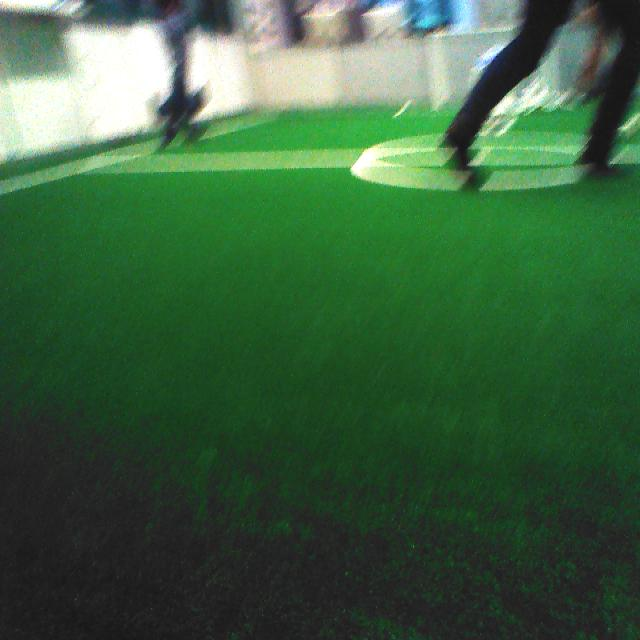goalpost: (424, 36, 441, 105), (541, 49, 557, 95)
